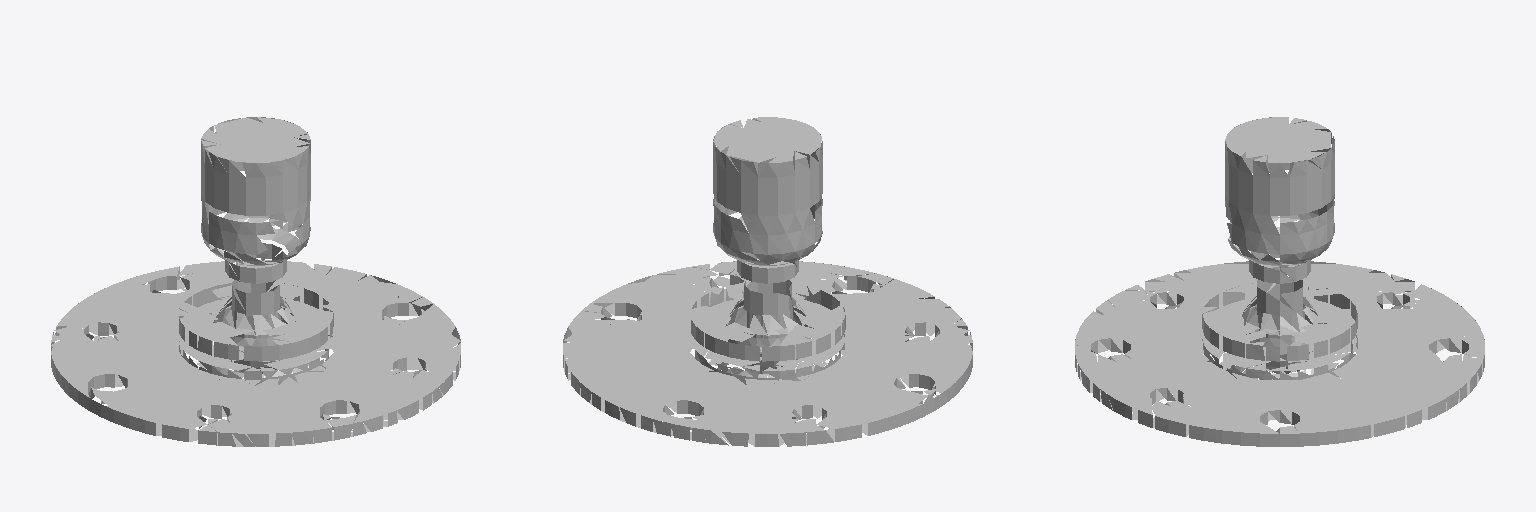
File: blender-flange_14-b7-2400.obj
The picture shows the model from 3 angles: view 1: azimuth 30°, elevation 25°; view 2: azimuth 150°, elevation 25°; view 3: azimuth 270°, elevation 25°; orthographic projection.
Visible parts, largest first — view 1: flange_14-b7; view 2: flange_14-b7; view 3: flange_14-b7.
Boxes of the visible parts, box(x1,y1,x2,y2) form: flange_14-b7: box(51, 117, 460, 446); flange_14-b7: box(563, 117, 972, 446); flange_14-b7: box(1075, 117, 1484, 446).
Size of the model in its own units: 225 by 140 by 225.